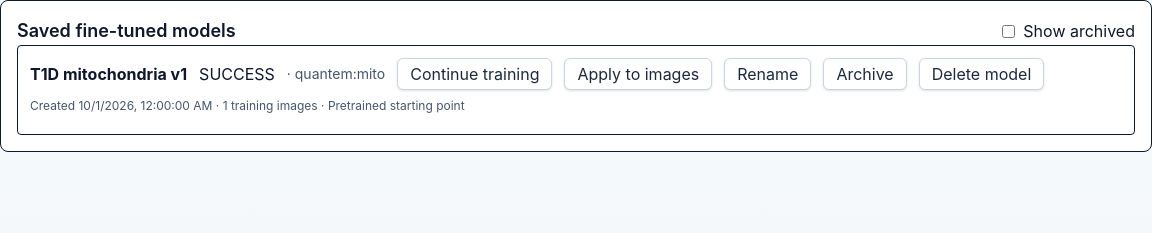
Scenario: shows the reserved-name explanation when a rename uses a deleted model's name
Click the button "Rename".
click(768, 74)  # box 724,58 -> 811,90
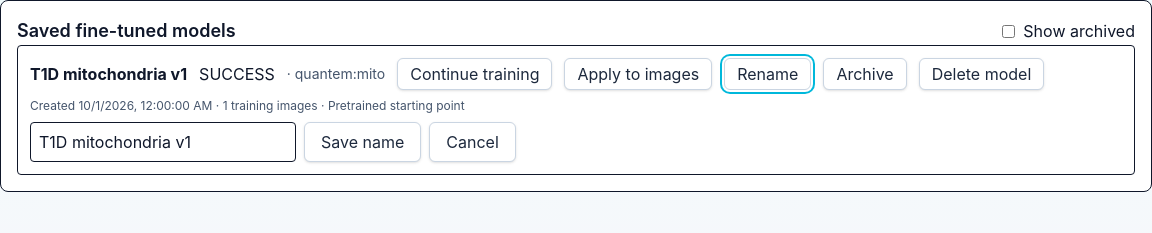
Replace the text in the field named "Model name" with "Deleted name" at x=163, y=142, box 30,122 -> 296,162
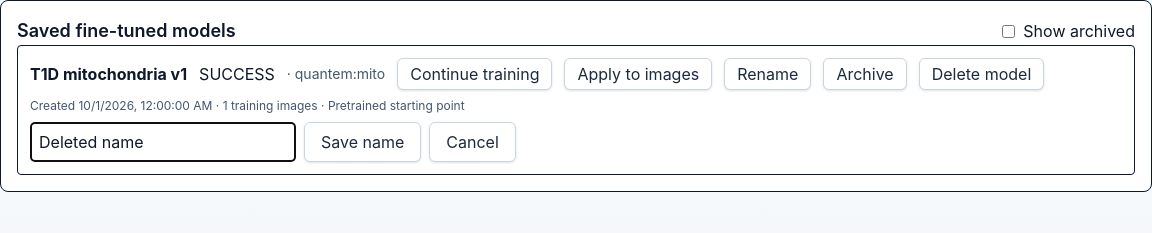
Click the button "Save name".
click(363, 142)  # box 304,122 -> 421,162
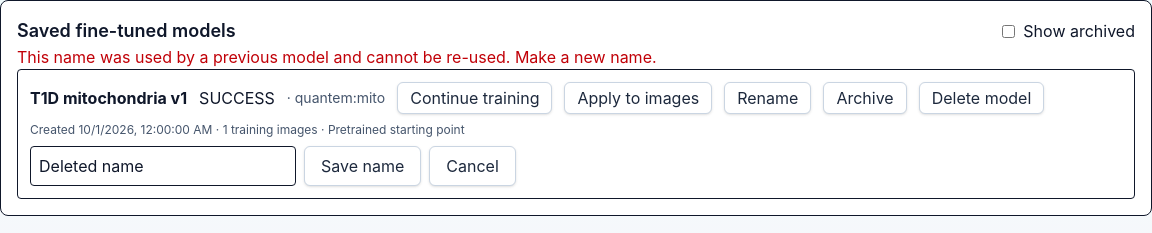
Expected: the message reads "This name was used by a previous model and cannot be re-used. Make a new name.", 17,47 -> 657,67
